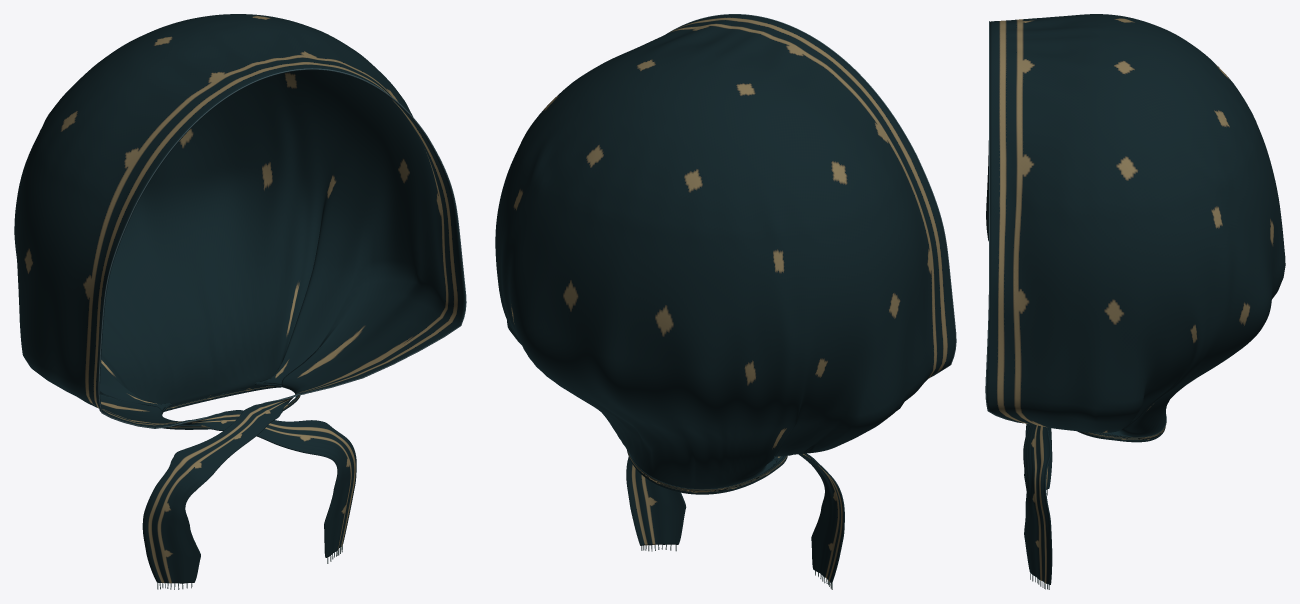
Rendered from Masculine-buzz-shirtless-pashmina249-headgear.glb.
3 views of the same model, side by side, from view 1: azimuth 30°, elevation 25°; view 2: azimuth 150°, elevation 25°; view 3: azimuth 270°, elevation 25° (orthographic). The views are drawn at different scales.
Parts seen in each view (by area): view 1: 226 headgear / Headwear / continuous woven pashmina239, 226 headgear / Headwear / face edge239; view 2: 226 headgear / Headwear / continuous woven pashmina239, 226 headgear / Headwear / face edge239; view 3: 226 headgear / Headwear / continuous woven pashmina239, 226 headgear / Headwear / face edge239.
Boxes of the visible parts, x1,y1,x2,y2 form: 226 headgear / Headwear / continuous woven pashmina239: (14,14,465,583); 226 headgear / Headwear / face edge239: (98,68,466,428); 226 headgear / Headwear / continuous woven pashmina239: (495,14,955,583); 226 headgear / Headwear / face edge239: (667,14,956,378); 226 headgear / Headwear / continuous woven pashmina239: (986,14,1285,584); 226 headgear / Headwear / face edge239: (985,21,1022,423).
Size of the model in its own units: 1.03 by 1.35 by 0.7152.
Materials: 3 (1 with a texture image).
